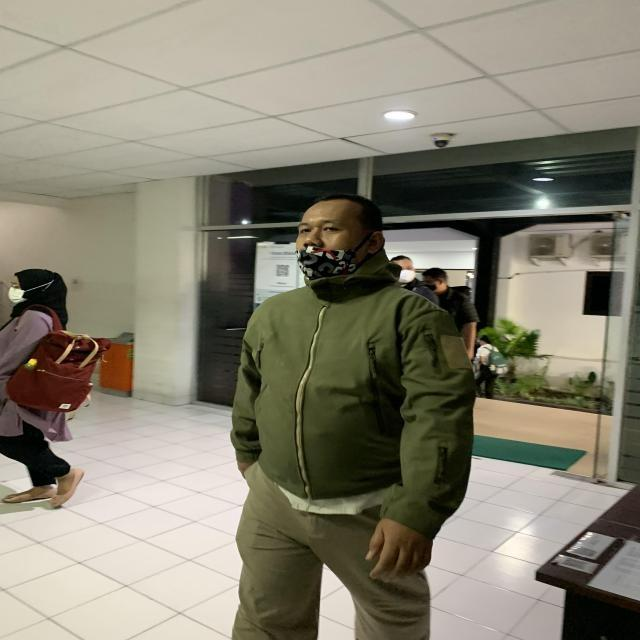hairnet: (292, 191, 388, 286)
